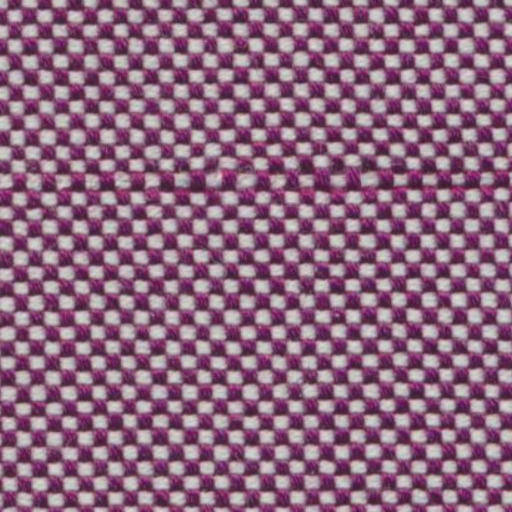TuoSha: (12, 127, 492, 222)
